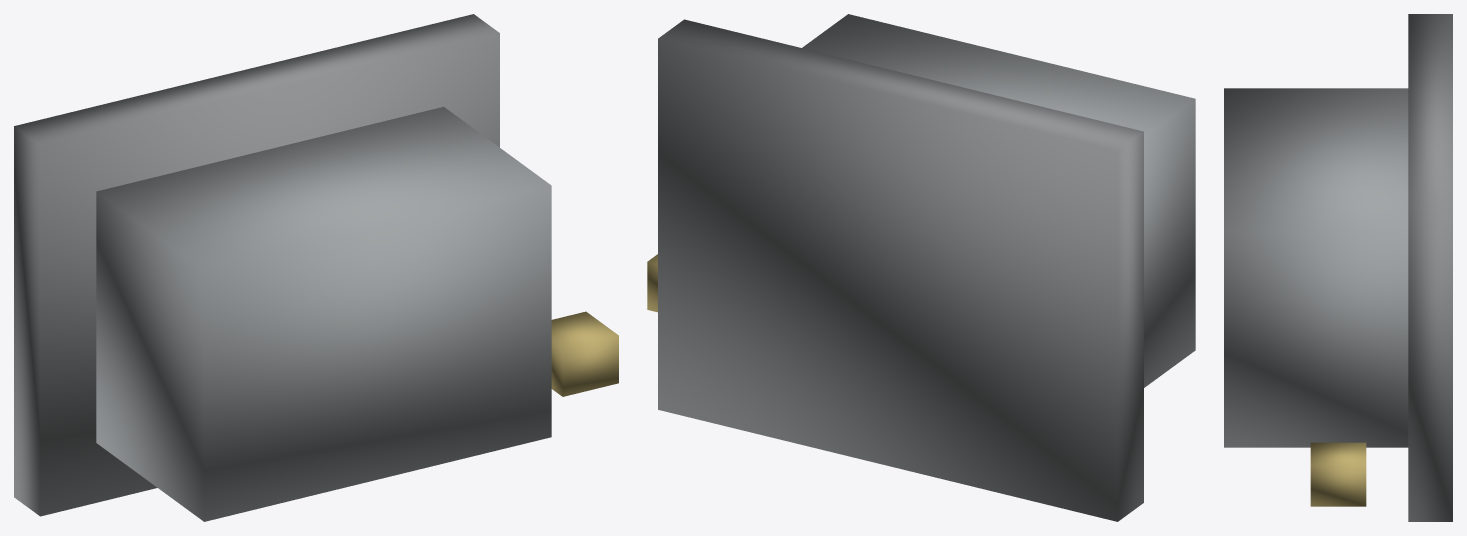
File: duct_penetration_14.glb
The picture shows the model from 3 angles, left to right: view 1: azimuth 30°, elevation 25°; view 2: azimuth 150°, elevation 25°; view 3: azimuth 270°, elevation 25°; orthographic projection. The views are drawn at different scales.
Parts seen in each view (by area): view 1: world; view 2: world; view 3: world.
Part boxes in pixels (x1,y1,x2,y2): world: [14, 14, 618, 521]; world: [647, 14, 1195, 521]; world: [1224, 14, 1452, 521].
Bounding box in the file's own units: 0.8928 × 0.6076 × 0.3977.
